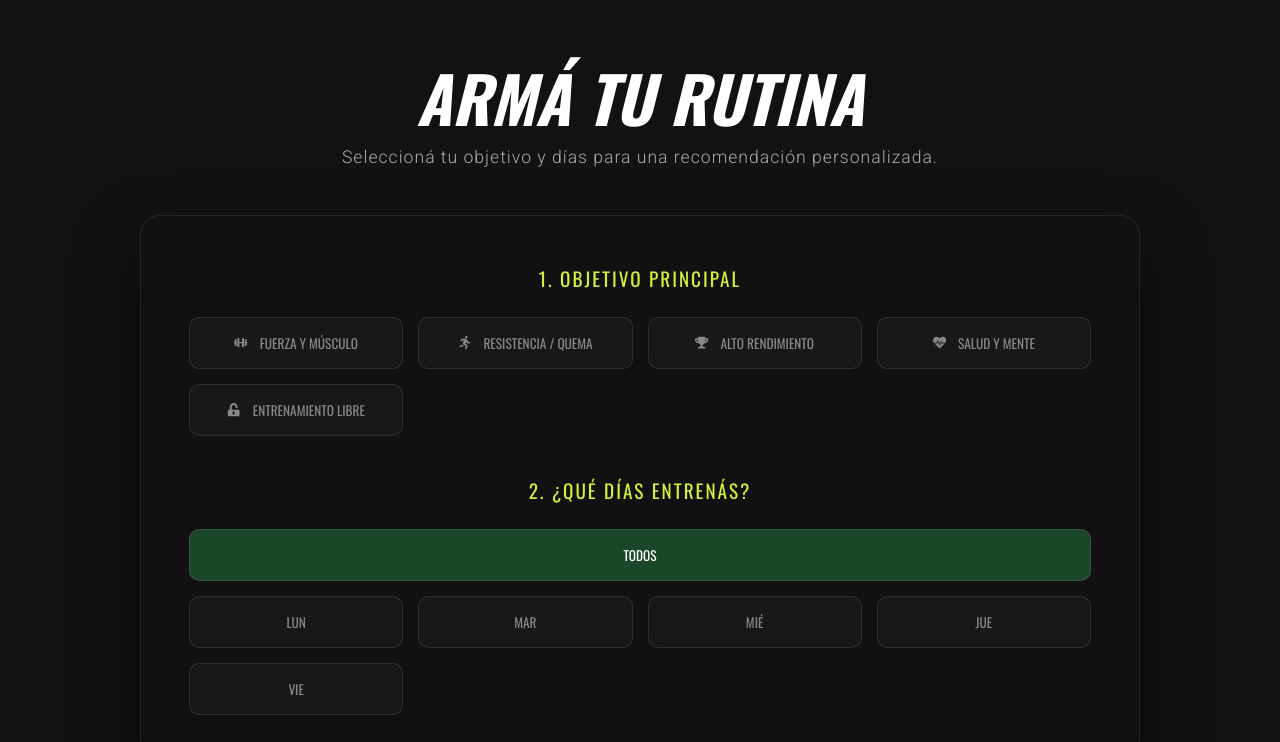
Test: Horarios — selector de días › "LIMPIAR FILTROS" resetea objetivo y días, ocultando el resultado
The image size is (1280, 742).
(page scrolled)
Click the button "Fuerza y Músculo" at (296, 343), box x1=189 y1=317 x2=403 y2=369
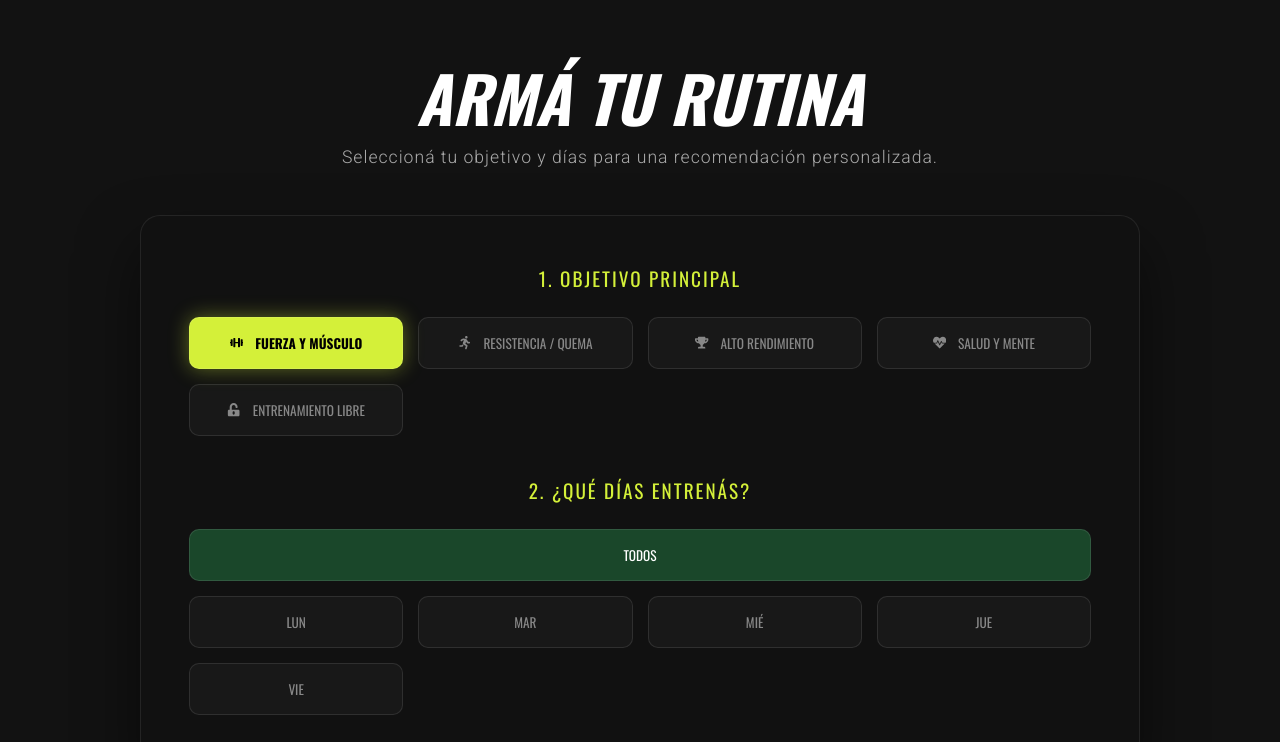
Click the button "Lun" at (296, 622), box x1=189 y1=596 x2=403 y2=648
(page scrolled)
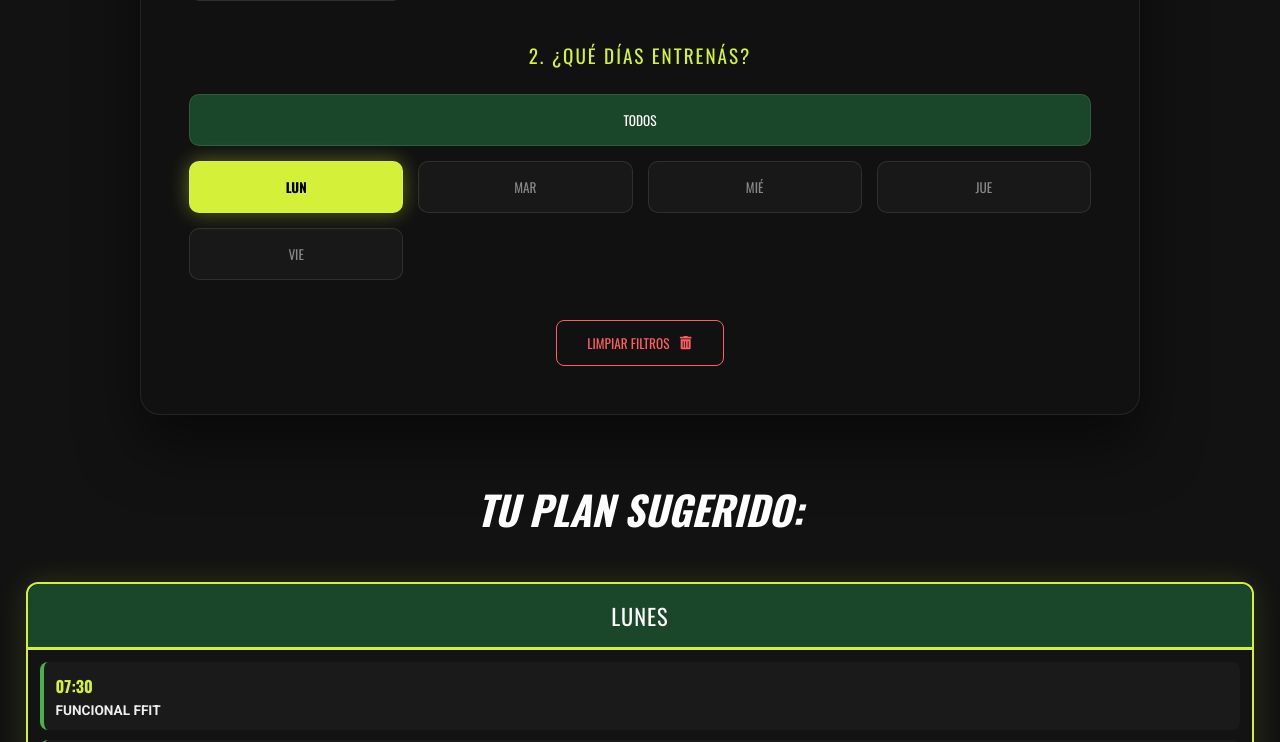
Click the button "LIMPIAR FILTROS" at (640, 343), box x1=556 y1=320 x2=724 y2=366
(page scrolled)
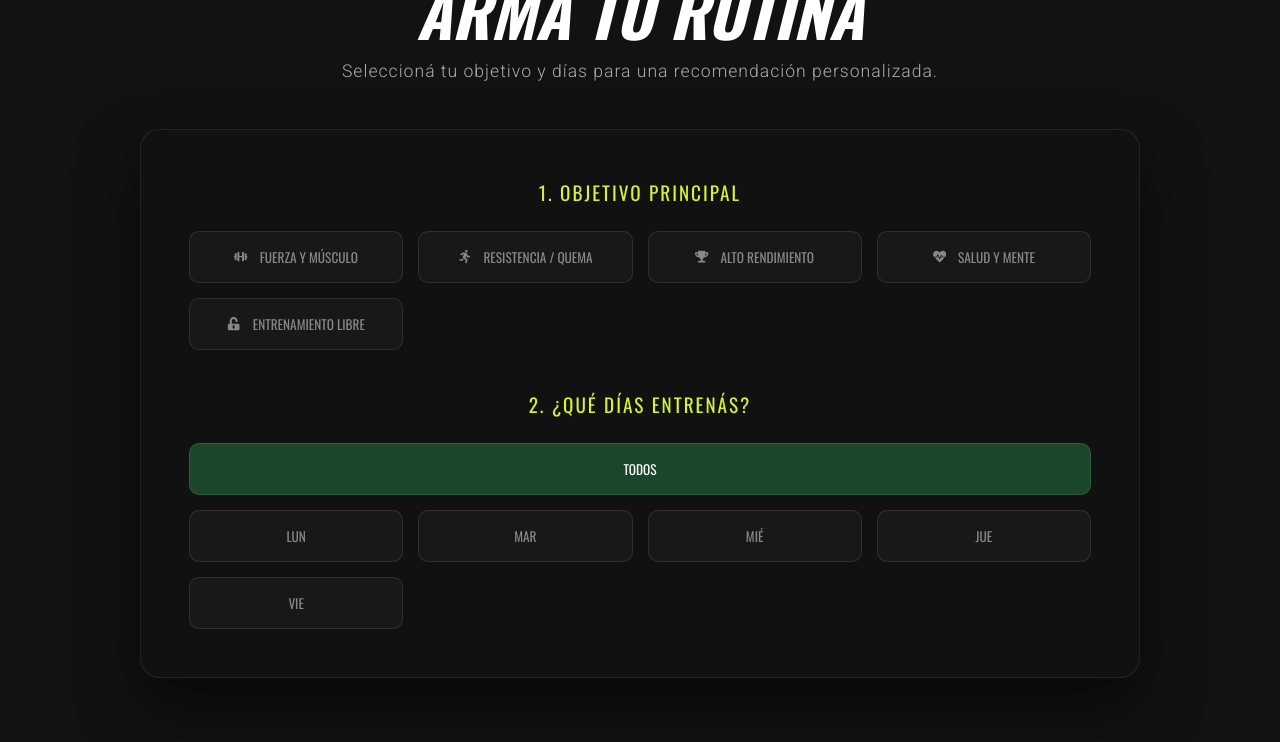
Check: the heading "Tu Plan Sugerido:" is gone
